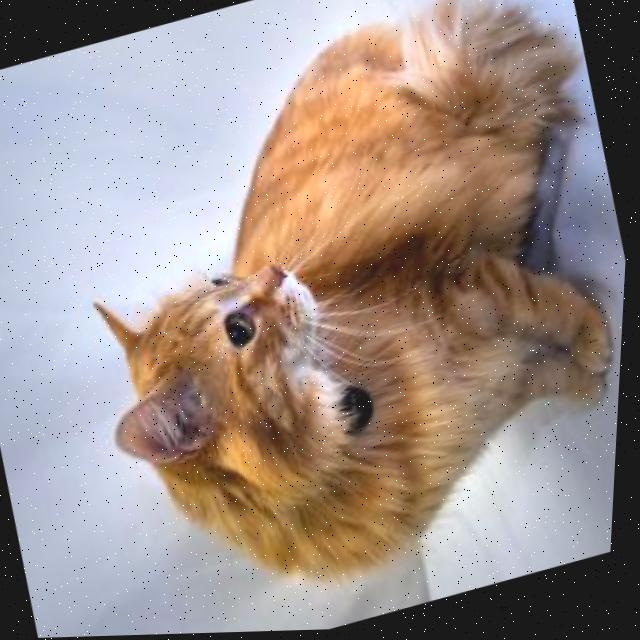Maine Coon: (23, 0, 640, 639)
